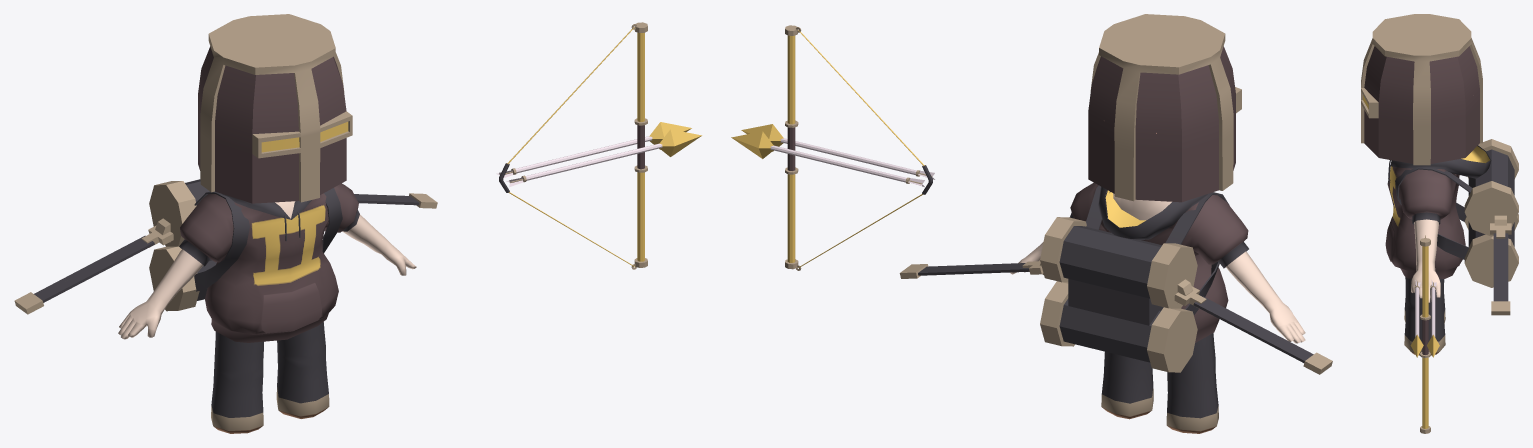
Rendered from Stage3_Idiot2.fbx.
3 views of the same model, side by side, from view 1: azimuth 30°, elevation 25°; view 2: azimuth 150°, elevation 25°; view 3: azimuth 270°, elevation 25° (orthographic). The views are drawn at different scales.
Parts seen in each view (by area): view 1: pCylinder23; view 2: pCylinder23; view 3: pCylinder23.
Boxes of the visible parts, <box> form: pCylinder23: <box>14,14,702,433</box>; pCylinder23: <box>731,14,1332,433</box>; pCylinder23: <box>1361,14,1518,433</box>.
Bounding box in the file's own units: 26.81 × 15.23 × 7.22.
